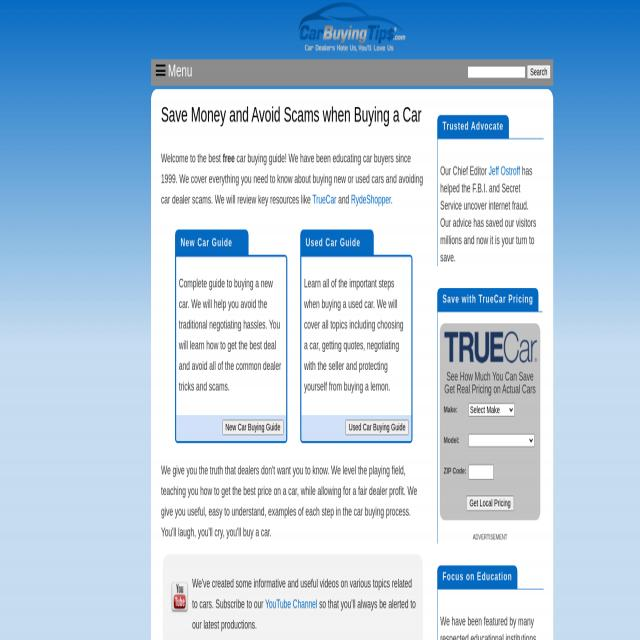button: (298, 0, 405, 50), (440, 322, 541, 369), (437, 113, 509, 141), (176, 230, 248, 256), (438, 567, 516, 589), (150, 58, 196, 84), (168, 572, 192, 618), (345, 420, 409, 435), (222, 419, 284, 433), (466, 495, 514, 509), (527, 63, 551, 77)
field: (468, 433, 535, 446), (468, 64, 526, 77), (468, 401, 515, 415), (468, 463, 494, 479)
